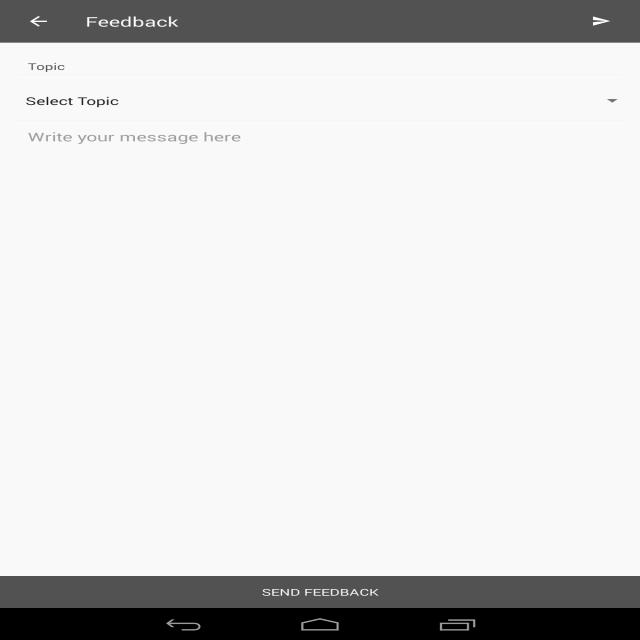Button: (0, 576, 640, 608)
EditText: (17, 122, 623, 565)
ImageButton: (9, 0, 68, 43)
Spinner: (17, 83, 623, 119)
TextView: (17, 53, 623, 73), (17, 94, 606, 108), (572, 5, 631, 38), (85, 12, 178, 30)
